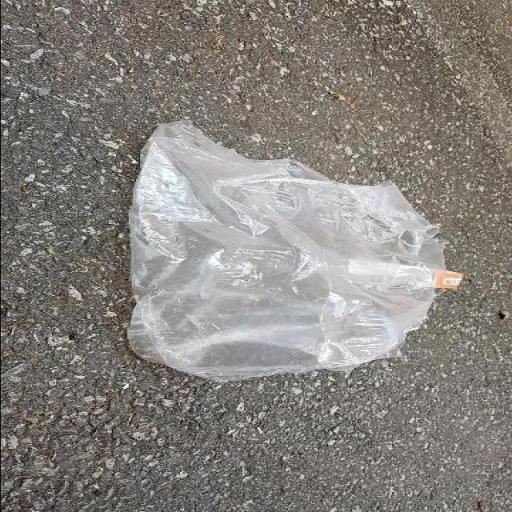plastic-bag: (121, 120, 463, 385)
